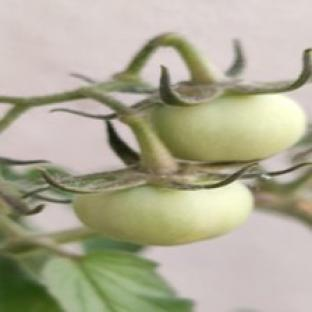Tomato: (74, 182, 253, 245), (151, 95, 306, 162)
